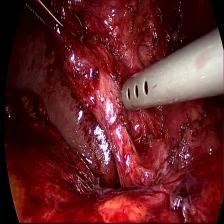Grasper: (12, 0, 85, 58)
Irrigator: (119, 57, 176, 114)
